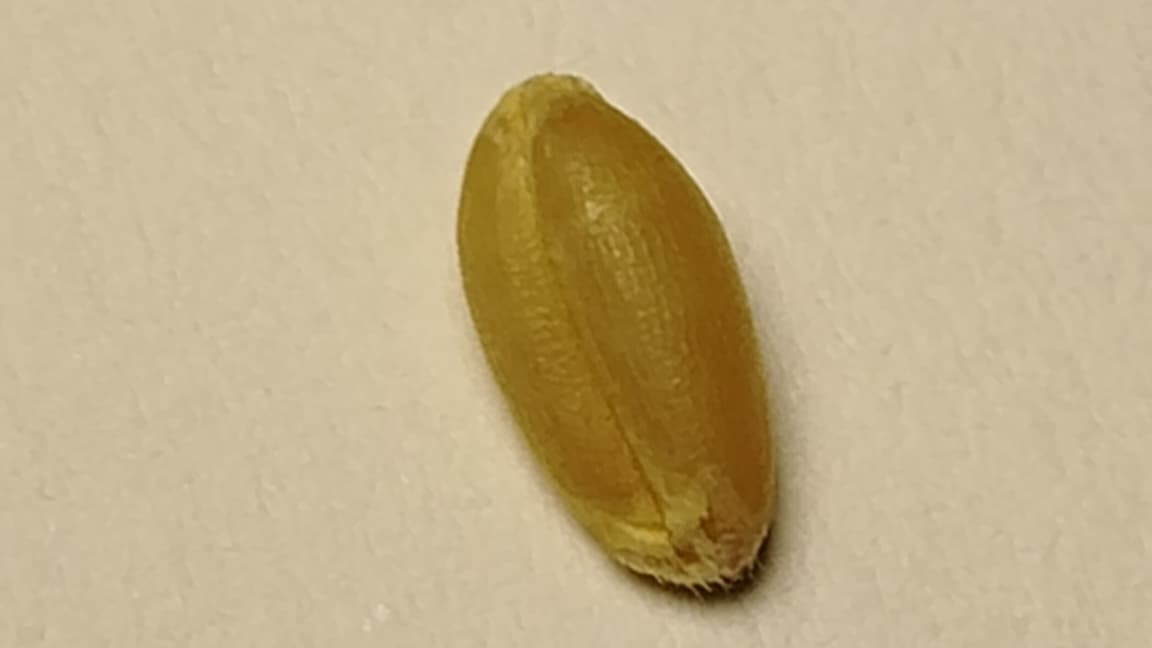healthy: (459, 75, 771, 583)
